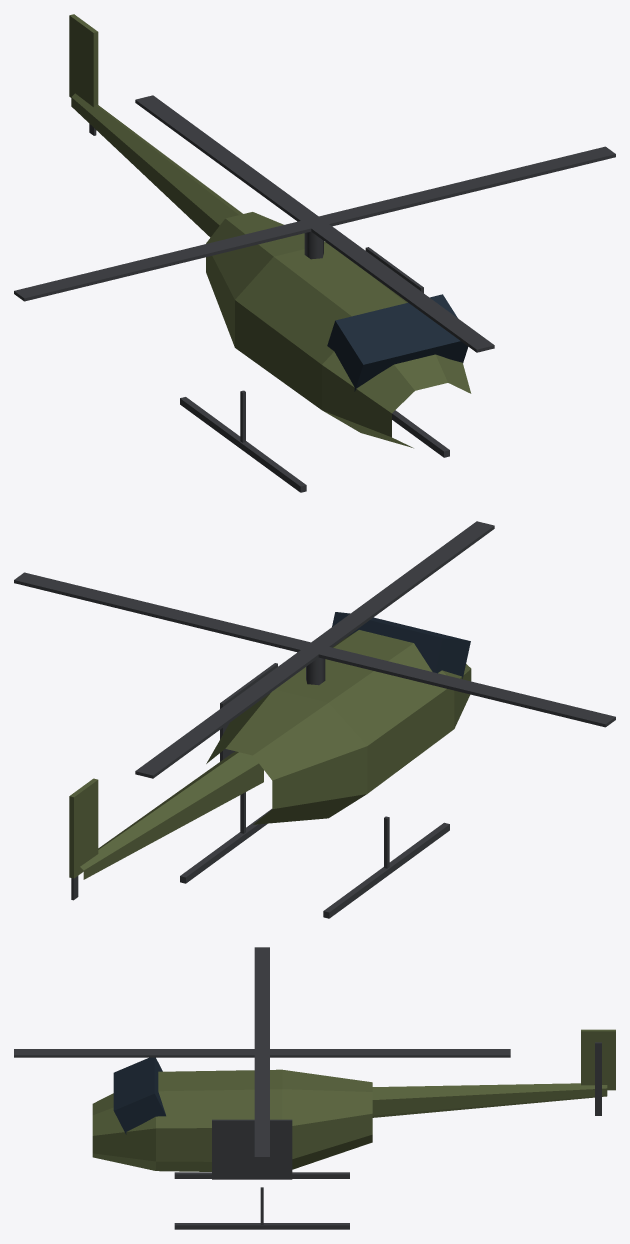
Rendered from veh_air_heli_transport_a06.glb.
3 renders of one model, top to bottom at view 1: azimuth 30°, elevation 25°; view 2: azimuth 150°, elevation 25°; view 3: azimuth 270°, elevation 25°, orthographic. The views are drawn at different scales.
Visible parts, largest first — view 1: body, rotor; view 2: body, rotor, door; view 3: body, rotor, door, tail_rotor.
Part boxes in pixels (x1,y1,x2,y2): body: (69,14,471,492); rotor: (14,95,615,352); body: (69,612,471,918); rotor: (14,521,615,778); door: (220,663,277,761); body: (92,1029,615,1229); rotor: (14,947,510,1159); door: (212,1119,292,1179); tail_rotor: (595,1042,601,1115).
Size of what is drawn, in the model's own units: 9.9 by 3.8 by 12.
